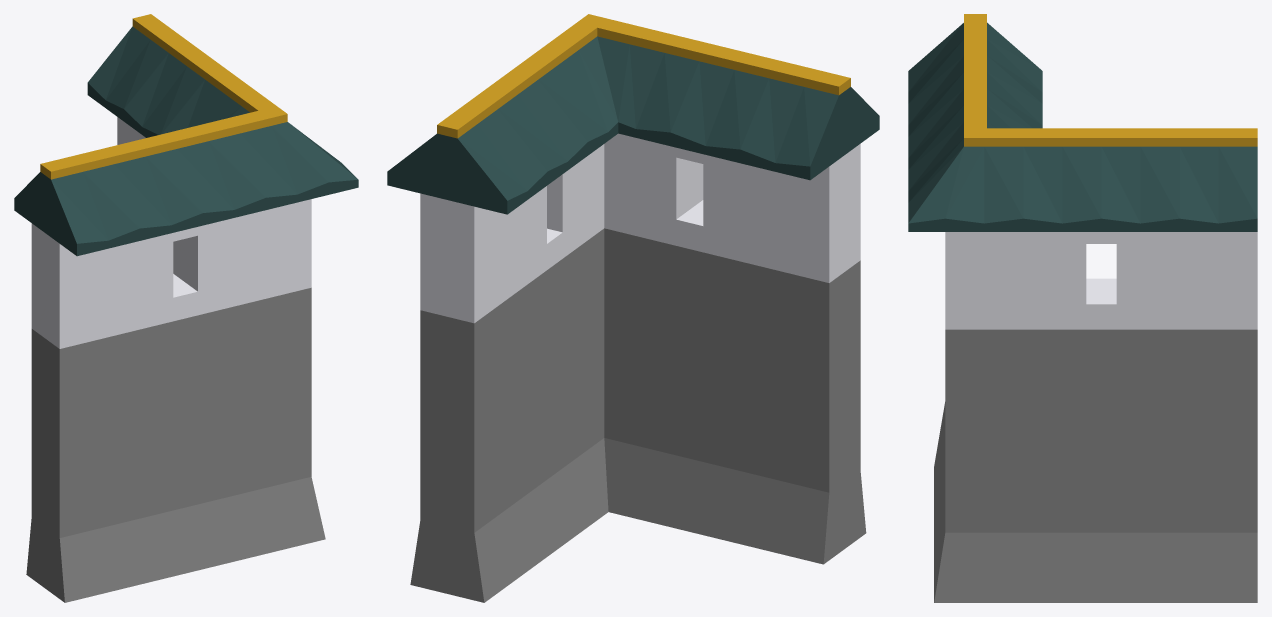
File: Asian_Prop_Building_Fence_Wall_High_Small_Corner_Embrasure_04.FBX
The picture shows the model from 3 angles, left to right: view 1: azimuth 30°, elevation 25°; view 2: azimuth 150°, elevation 25°; view 3: azimuth 270°, elevation 25°; orthographic projection. The views are drawn at different scales.
Parts seen in each view (by area): view 1: Asian_Prop_Building_Fence_Wall_High_Small_Corner_Embrasure_0; view 2: Asian_Prop_Building_Fence_Wall_High_Small_Corner_Embrasure_0; view 3: Asian_Prop_Building_Fence_Wall_High_Small_Corner_Embrasure_0.
Part boxes in pixels (left/top/right/bottom): Asian_Prop_Building_Fence_Wall_High_Small_Corner_Embrasure_0: left=14, top=14, right=358, bottom=602; Asian_Prop_Building_Fence_Wall_High_Small_Corner_Embrasure_0: left=387, top=14, right=879, bottom=602; Asian_Prop_Building_Fence_Wall_High_Small_Corner_Embrasure_0: left=908, top=14, right=1257, bottom=602.
Size of the model in its own units: 2890 by 4128 by 2890.
